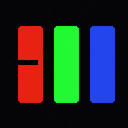3 line_h: (17, 60, 37, 64)
